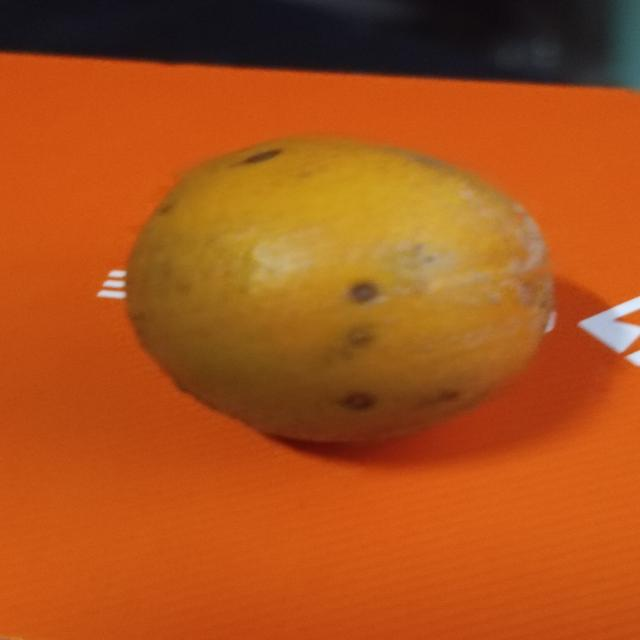black spot: (119, 129, 574, 457)
